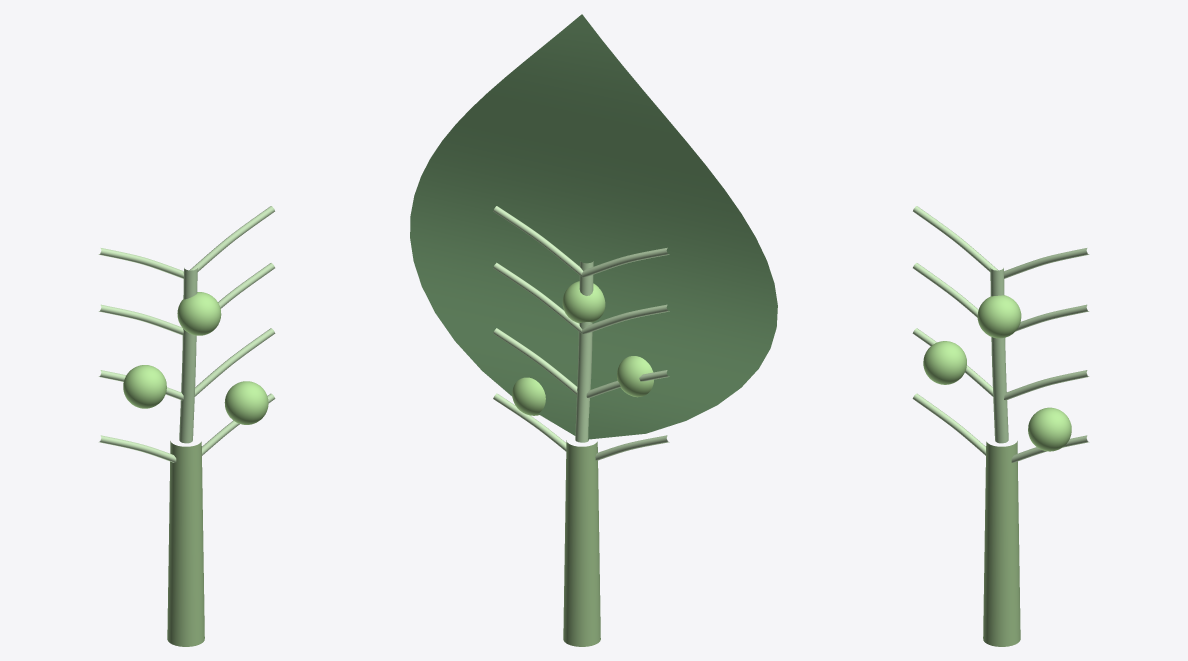
Rendered from leaf.glb.
3 renders of one model, left to right at view 1: azimuth 30°, elevation 25°; view 2: azimuth 150°, elevation 25°; view 3: azimuth 330°, elevation 25°, orthographic.
Parts seen in each view (by area): view 1: petiole, midrib, chloroplast_2, chloroplast_1, chloroplast_3, vein_r_4, vein_r_2, vein_l_3, vein_l_4, vein_l_1; view 2: leaf_blade, petiole, midrib, chloroplast_3, chloroplast_1, chloroplast_2, vein_r_4, vein_r_3, vein_r_2, vein_l_4, vein_l_3, vein_r_1 (+1 smaller); view 3: petiole, midrib, chloroplast_2, chloroplast_1, chloroplast_3, vein_l_4, vein_r_4, vein_r_2, vein_l_1, vein_l_3, vein_r_3.
Part boxes in pixels (x1,y1,x2,y2): petiole: (167,441,204,646); midrib: (179,268,197,443); chloroplast_2: (224,381,268,424); chloroplast_1: (123,365,166,408); chloroplast_3: (177,292,221,335); vein_r_4: (190,206,274,271); vein_r_2: (194,328,275,396); vein_l_3: (98,304,183,335); vein_l_4: (98,248,183,278); vein_l_1: (98,435,176,462); leaf_blade: (410,14,777,439); petiole: (563,440,600,646); midrib: (575,261,593,442); chloroplast_3: (562,281,605,323); chloroplast_1: (617,356,653,397); chloroplast_2: (512,377,545,415); vein_r_4: (493,206,582,276); vein_r_3: (493,262,582,333); vein_r_2: (493,328,577,394); vein_l_4: (582,247,669,277); vein_l_3: (582,304,669,333); vein_r_1: (493,393,566,451); petiole: (983,441,1020,646); midrib: (990,268,1008,443); chloroplast_2: (1028,407,1071,451); chloroplast_1: (923,341,966,384); chloroplast_3: (977,295,1021,338); vein_l_4: (913,206,997,271); vein_r_4: (1004,248,1089,278); vein_r_2: (1004,370,1089,400); vein_l_1: (912,393,985,455); vein_l_3: (913,263,978,317); vein_r_3: (1015,304,1089,331).
Size of the model in its own units: 1.05 by 1.7 by 0.139.
